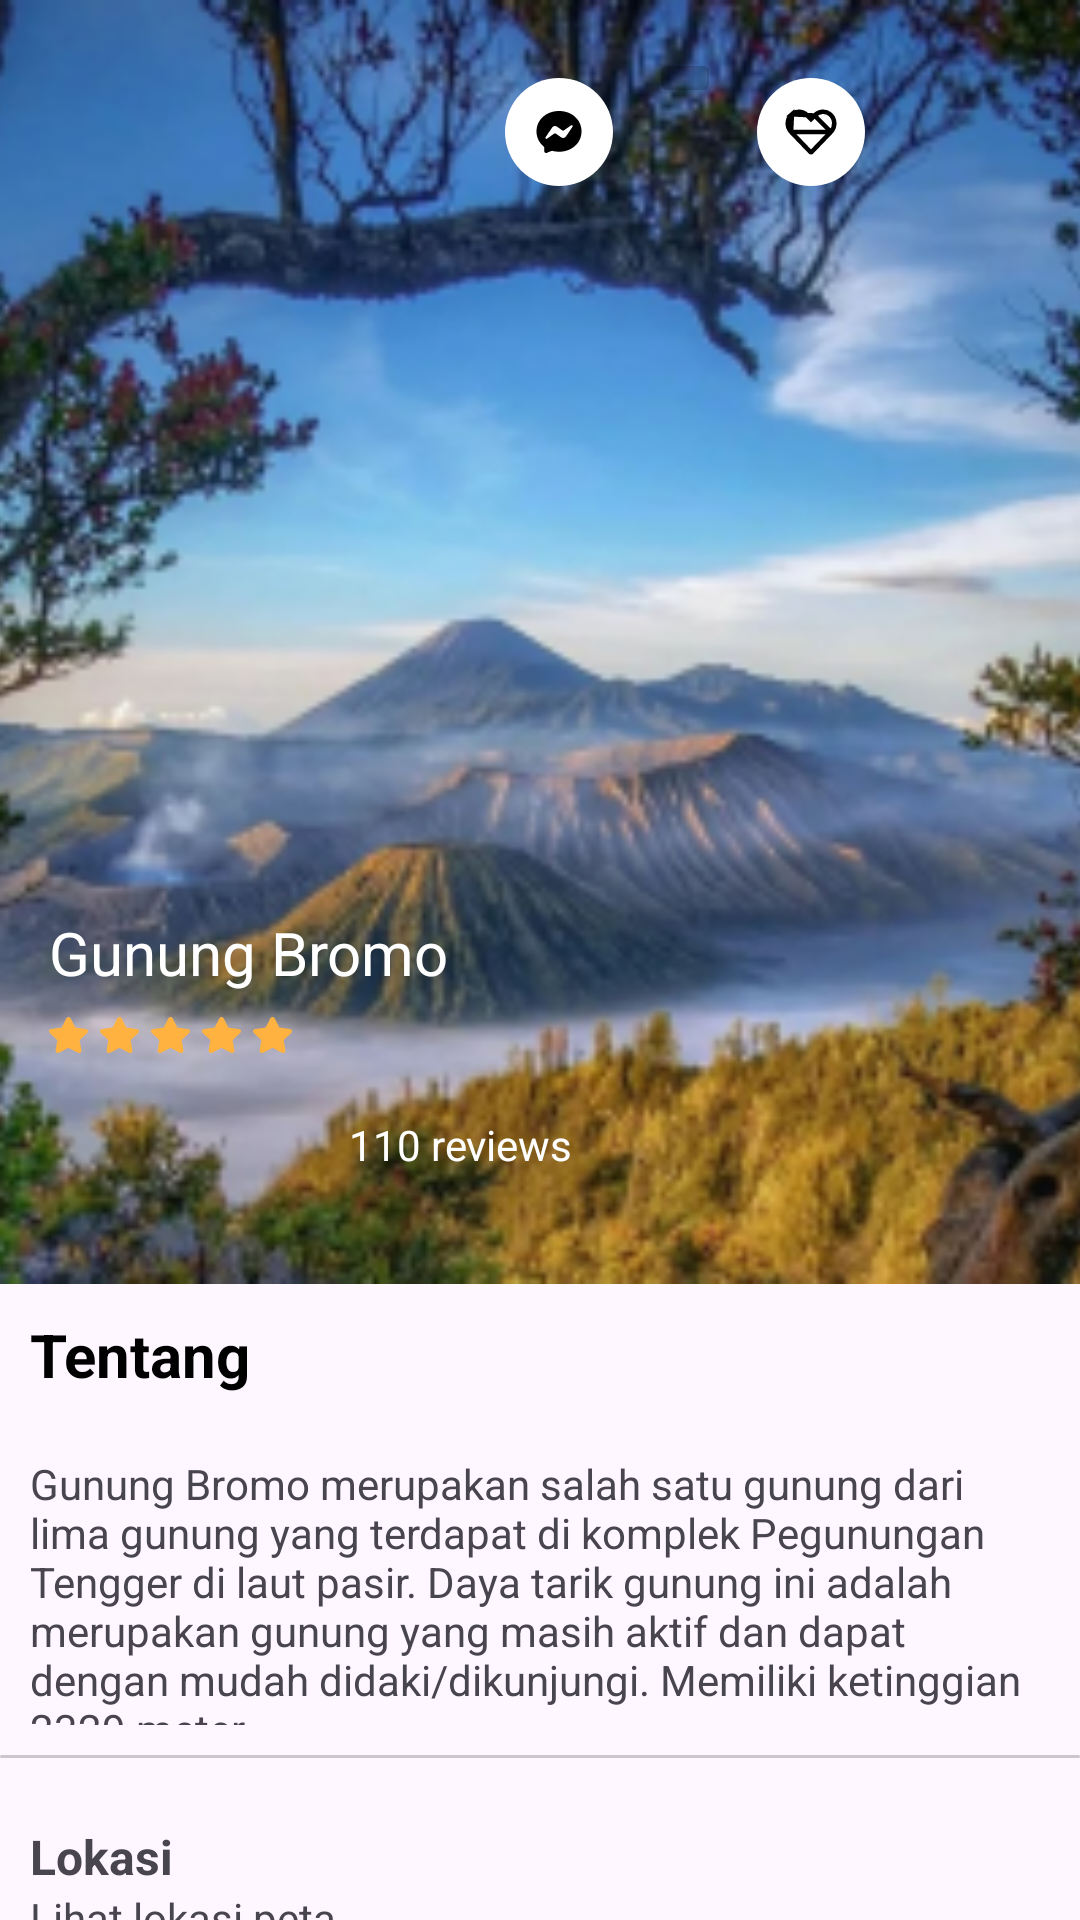

Where to tap for icons on this 1080w x 1920h app screen, as (x,y):
favoritdestinasi: (811,132)
